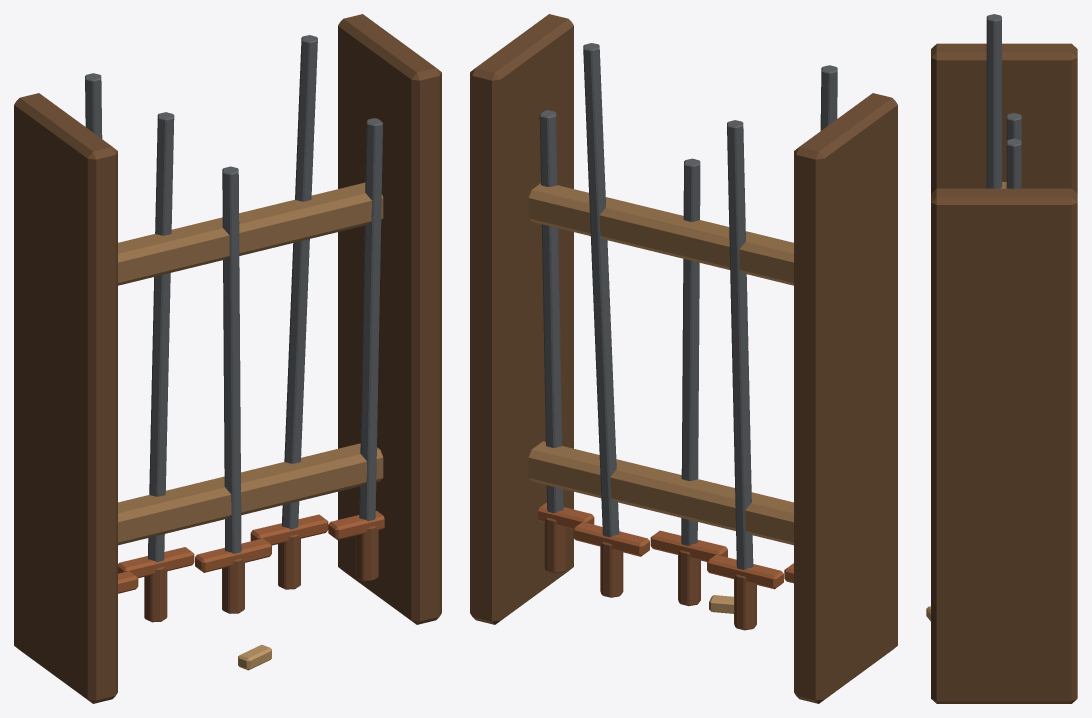
The model's file is runtime.glb.
3 views of the same model, side by side, from view 1: azimuth 30°, elevation 25°; view 2: azimuth 150°, elevation 25°; view 3: azimuth 270°, elevation 25° (orthographic). The views are drawn at different scales.
Visible parts, largest first — view 1: falkenwacht-weapon-rack-v02_nocol; view 2: falkenwacht-weapon-rack-v02_nocol; view 3: falkenwacht-weapon-rack-v02_nocol.
Part boxes in pixels (box(x1,y1,x2,y2)): falkenwacht-weapon-rack-v02_nocol: box(14, 14, 441, 703); falkenwacht-weapon-rack-v02_nocol: box(470, 14, 897, 703); falkenwacht-weapon-rack-v02_nocol: box(926, 14, 1077, 703).
Bounding box in the file's own units: 1.51 × 2.43 × 0.6083.
